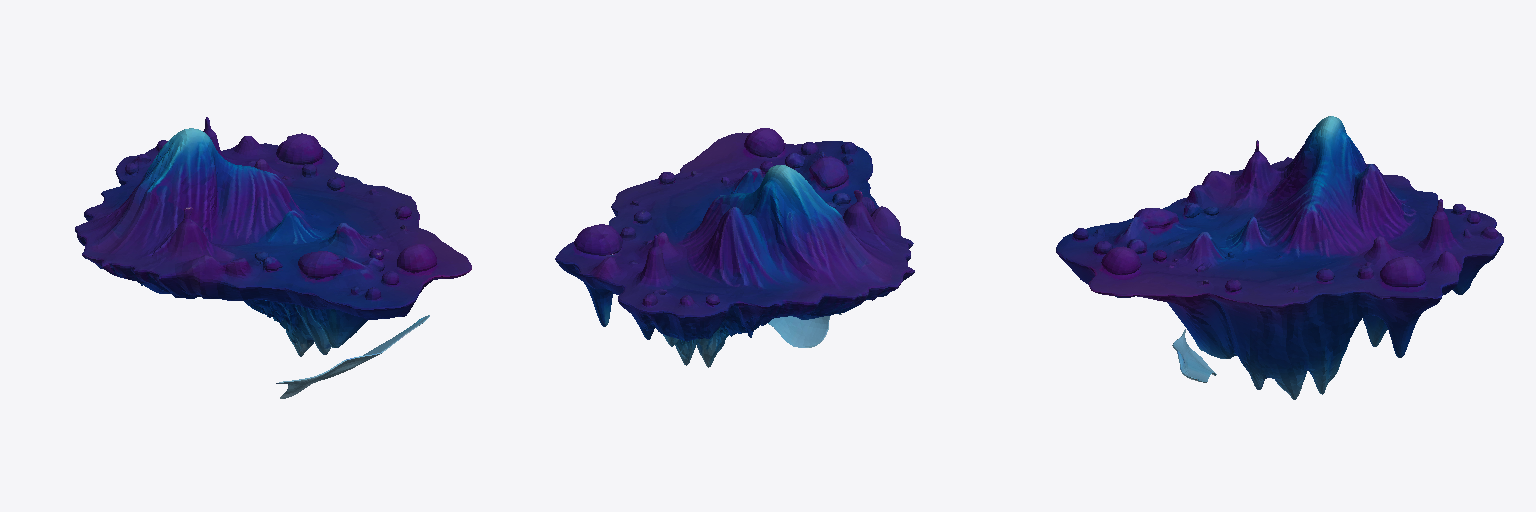
3 renders of one model, left to right at view 1: azimuth 30°, elevation 25°; view 2: azimuth 150°, elevation 25°; view 3: azimuth 270°, elevation 25°, orthographic.
Visible parts, largest first — view 1: tripo_node_5f69a7a0-2841-4eaa-84bc-7ded0eb90232; view 2: tripo_node_5f69a7a0-2841-4eaa-84bc-7ded0eb90232; view 3: tripo_node_5f69a7a0-2841-4eaa-84bc-7ded0eb90232.
Boxes of the visible parts, box(x1,y1,x2,y2) form: tripo_node_5f69a7a0-2841-4eaa-84bc-7ded0eb90232: box(75, 117, 471, 398); tripo_node_5f69a7a0-2841-4eaa-84bc-7ded0eb90232: box(555, 128, 914, 367); tripo_node_5f69a7a0-2841-4eaa-84bc-7ded0eb90232: box(1056, 116, 1503, 399).
Bounding box in the file's own units: 0.7808 × 0.5818 × 0.9963.
1 materials, 1 textured.